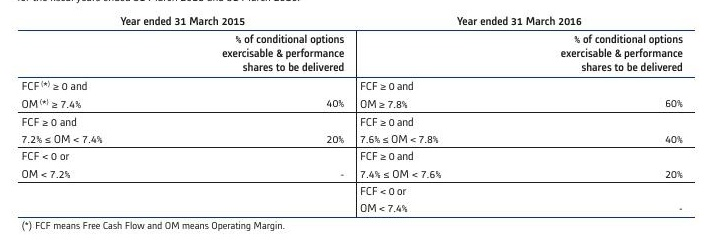table: (0, 0, 710, 241)
